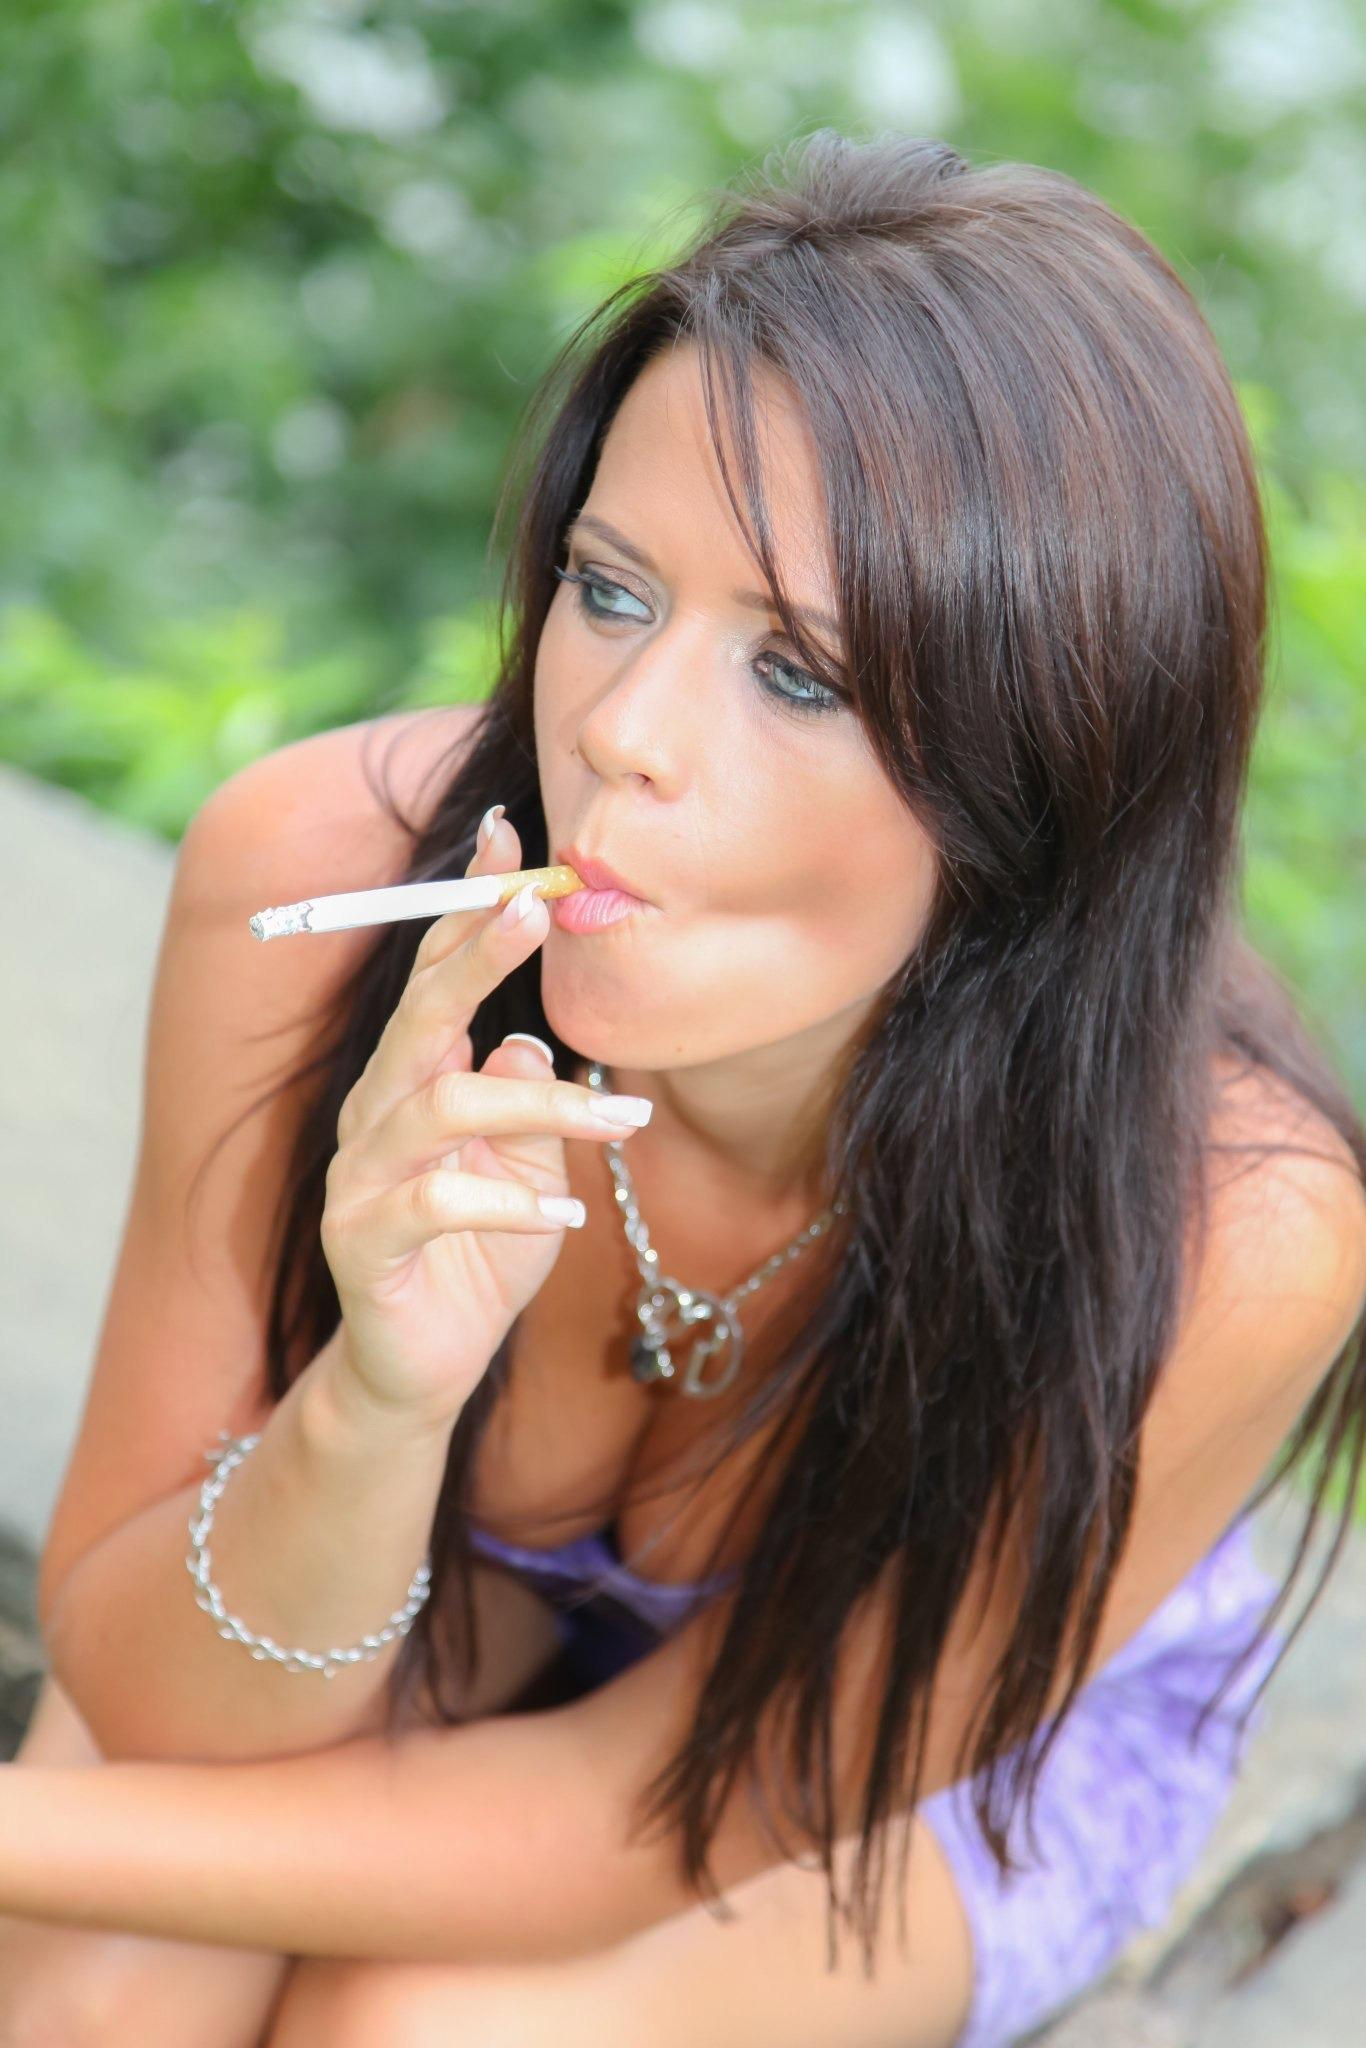cigarette: (250, 862, 587, 940)
